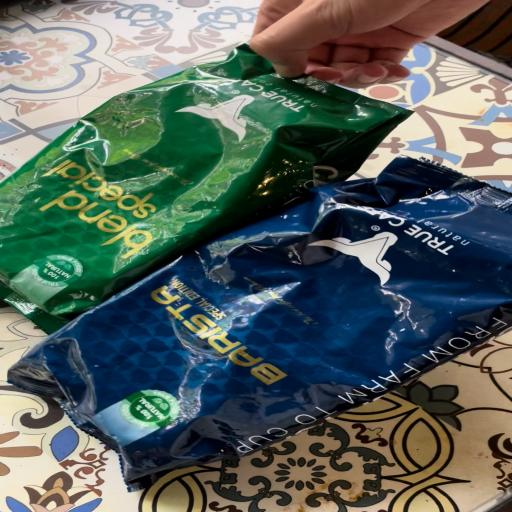cafe_hat: (9, 157, 512, 490)
cafe_xay: (0, 45, 409, 333)
